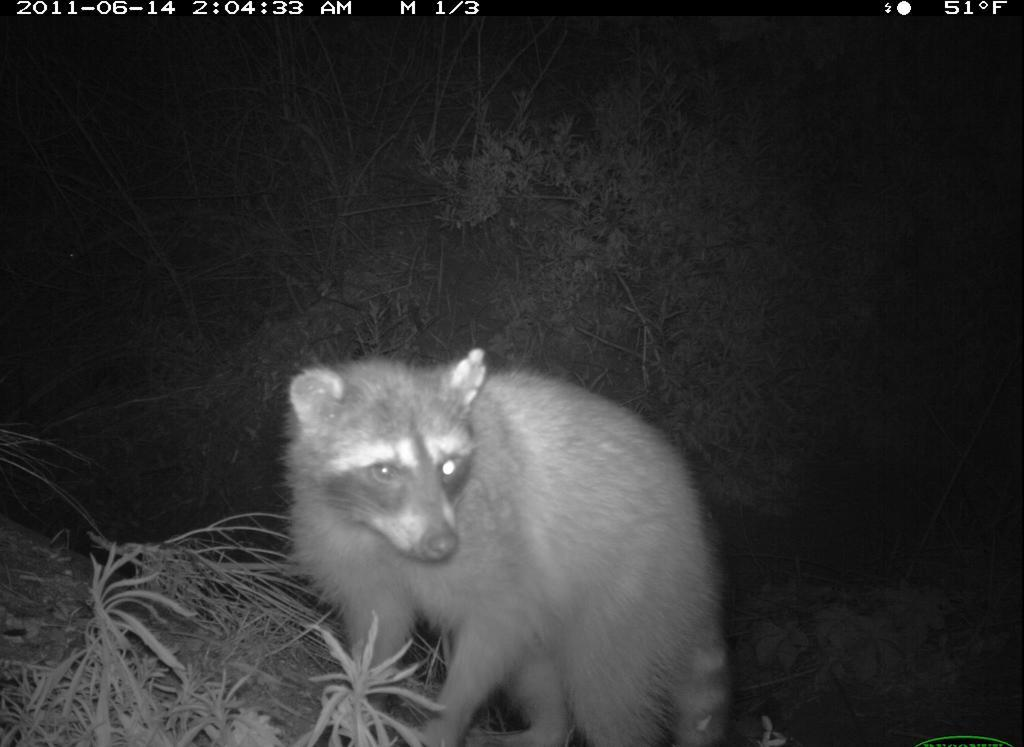raccoon: (273, 345, 744, 743)
